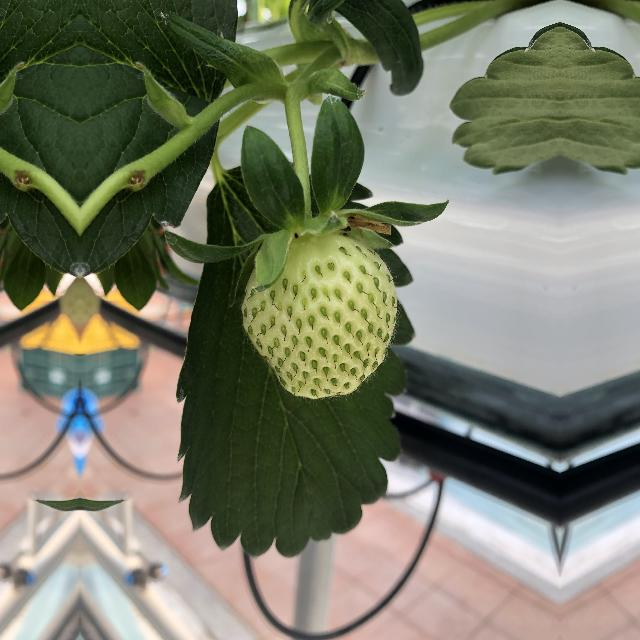Health_25: (238, 229, 407, 405)
